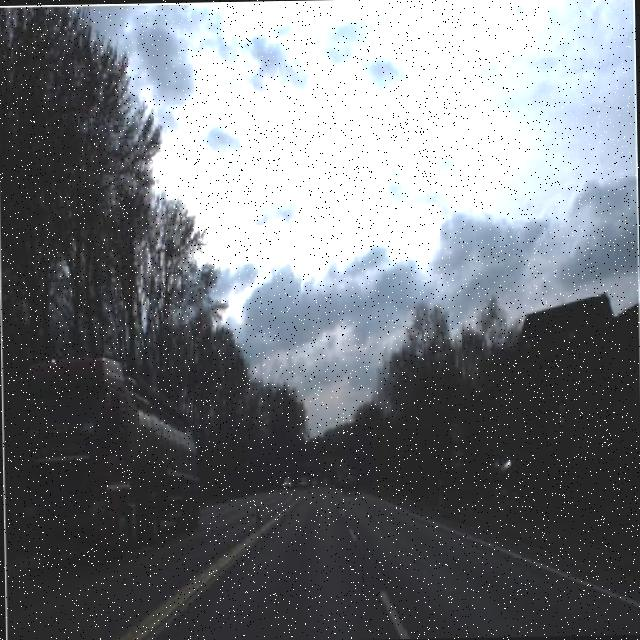Ograniczenie predkosci do 70: (446, 412, 468, 448)
Zakaz wyprzedzania: (447, 446, 467, 474)
